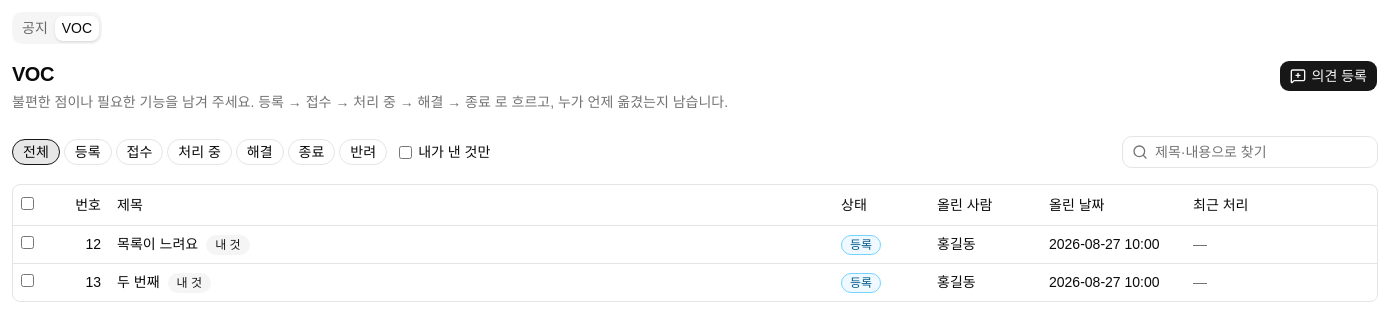
Test case: 고른 건 내려받기 › 머리 체크박스는 이 쪽 전부를 고른다
Expected: the checkbox named "두 번째 고르기" is shown, [21,274,34,287]
Step 1. Click the checkbox named "이 쪽 전부 고르기" → [28, 203], box [21,197,34,210]
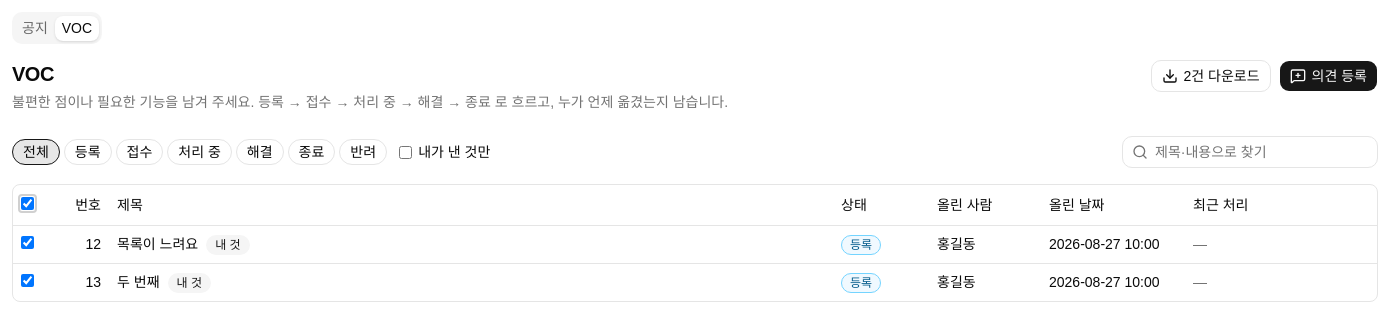
Expected: the button "2건 다운로드" is shown, [1150,60,1271,92]
